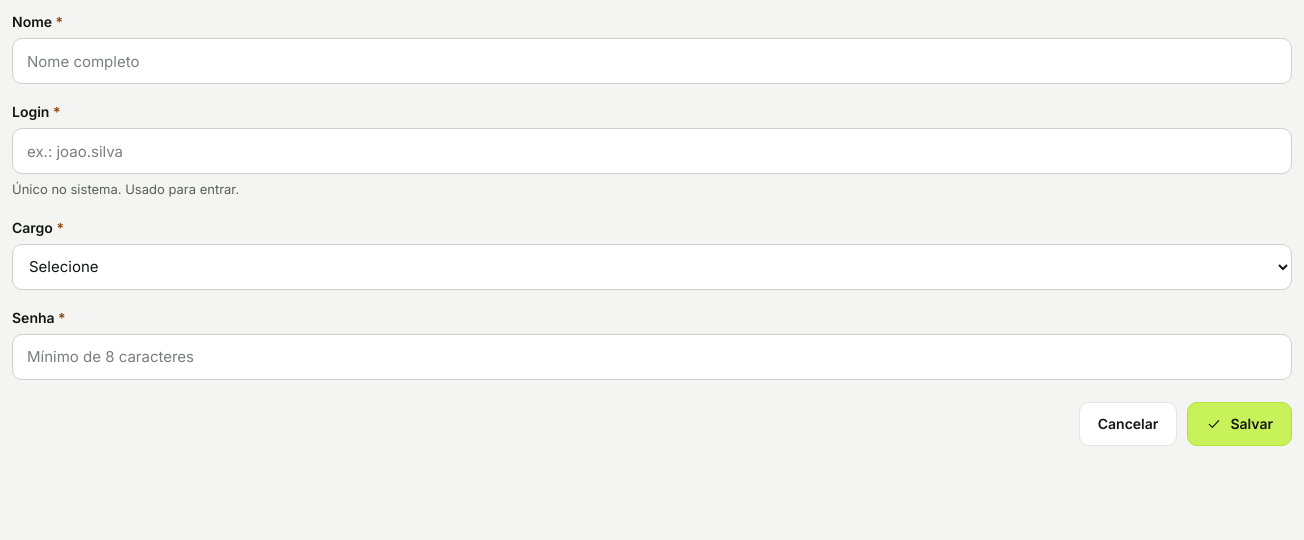
FormFuncionario › mostra o erro de validação sem chamar a API
The image size is (1304, 540).
Click the button "Salvar": (1240, 424) [1187,402,1292,446]
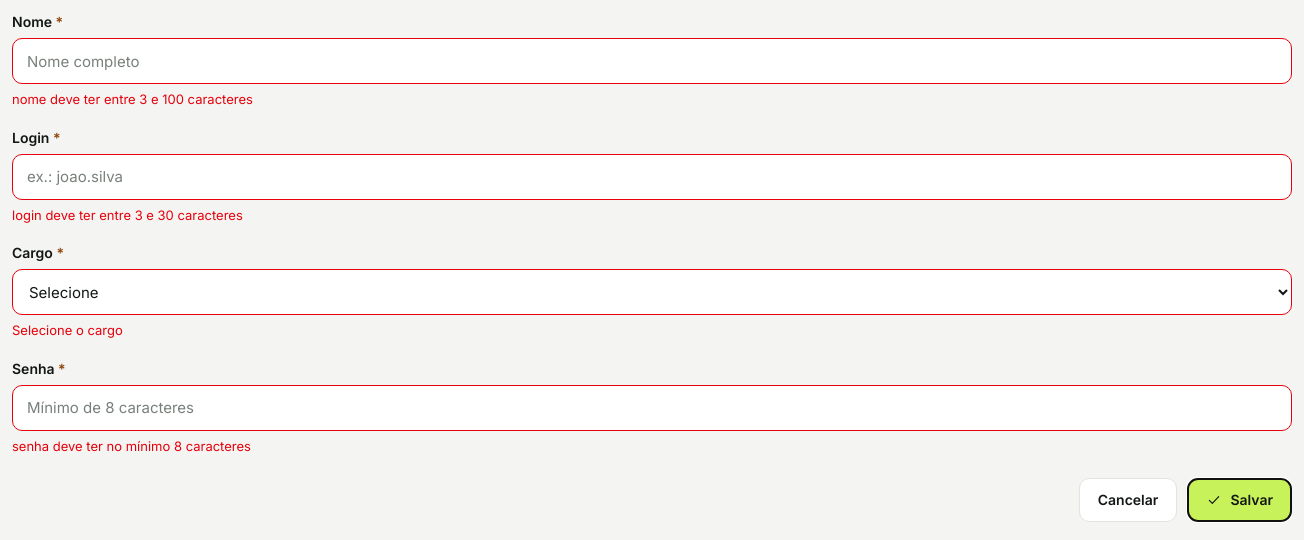
Expected: the text "nome deve ter entre 3 e 100 caracteres" is shown, [12,91,253,107]
Expected: the text "Selecione o cargo" is shown, [12,322,123,338]
